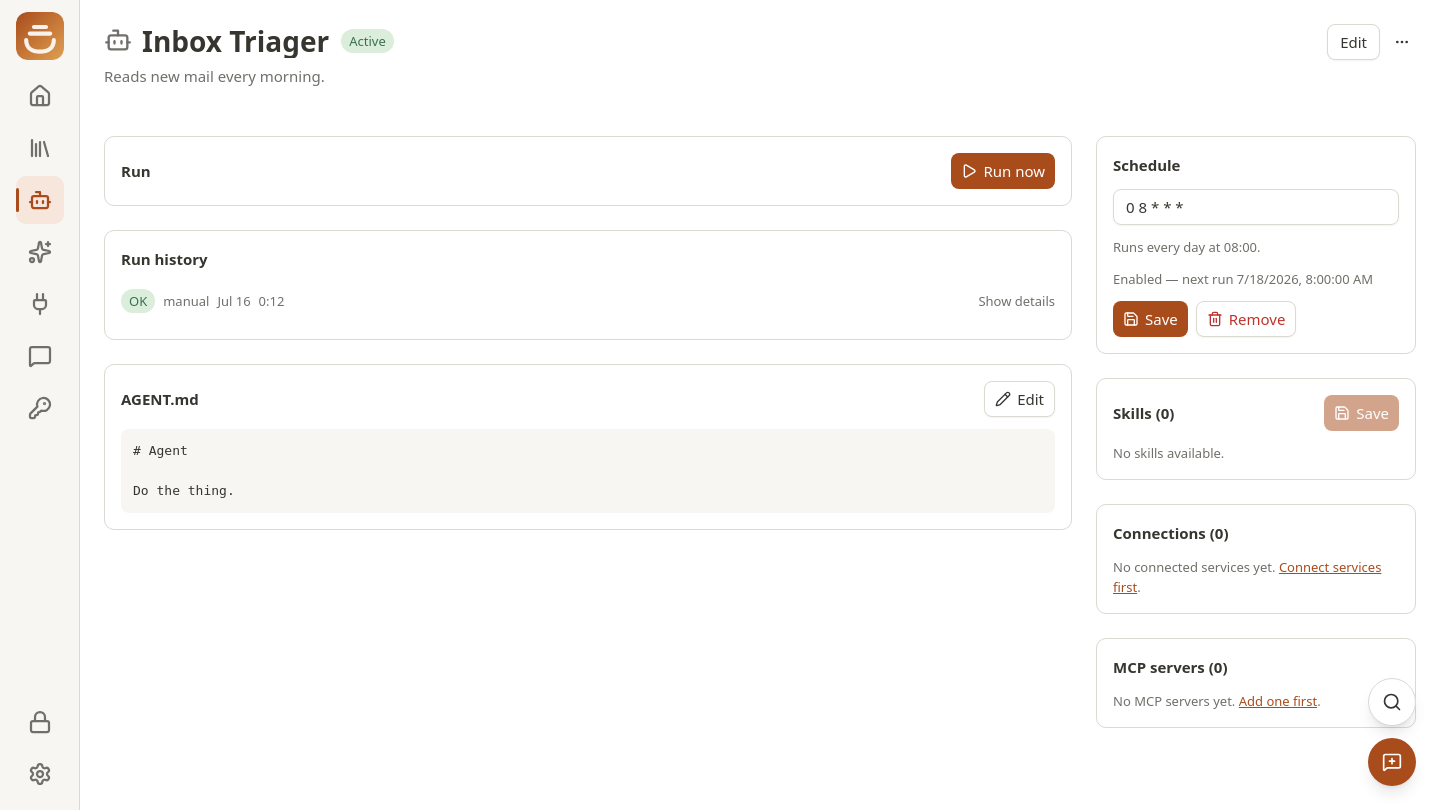
schedule save shows invalid_cron message inline on 400
Replace the text in the field named "cron expression" with "not a cron": (1256, 207) 1113,189 -> 1399,225
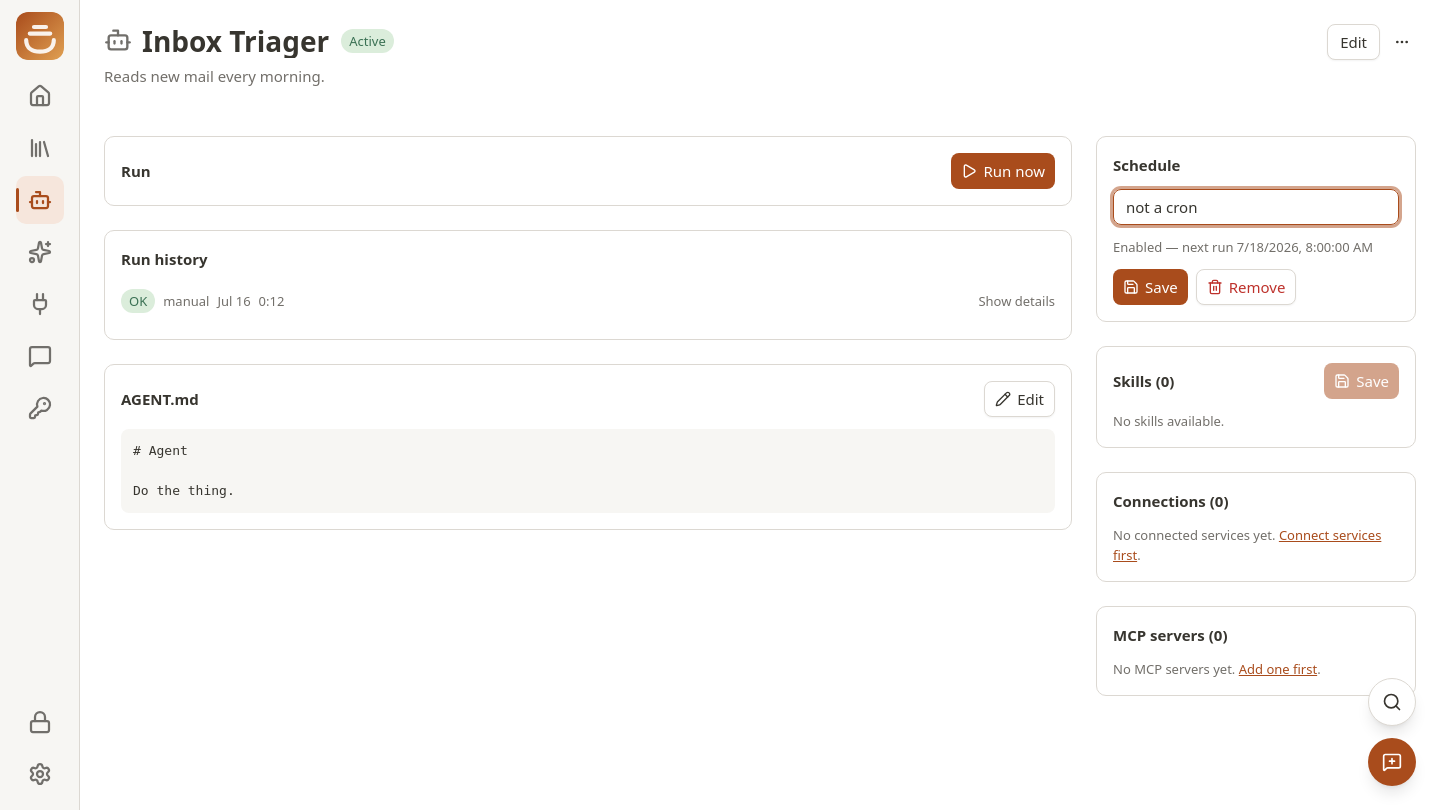
Click the button with aria-label "save schedule": (1150, 287) 1113,269 -> 1188,305
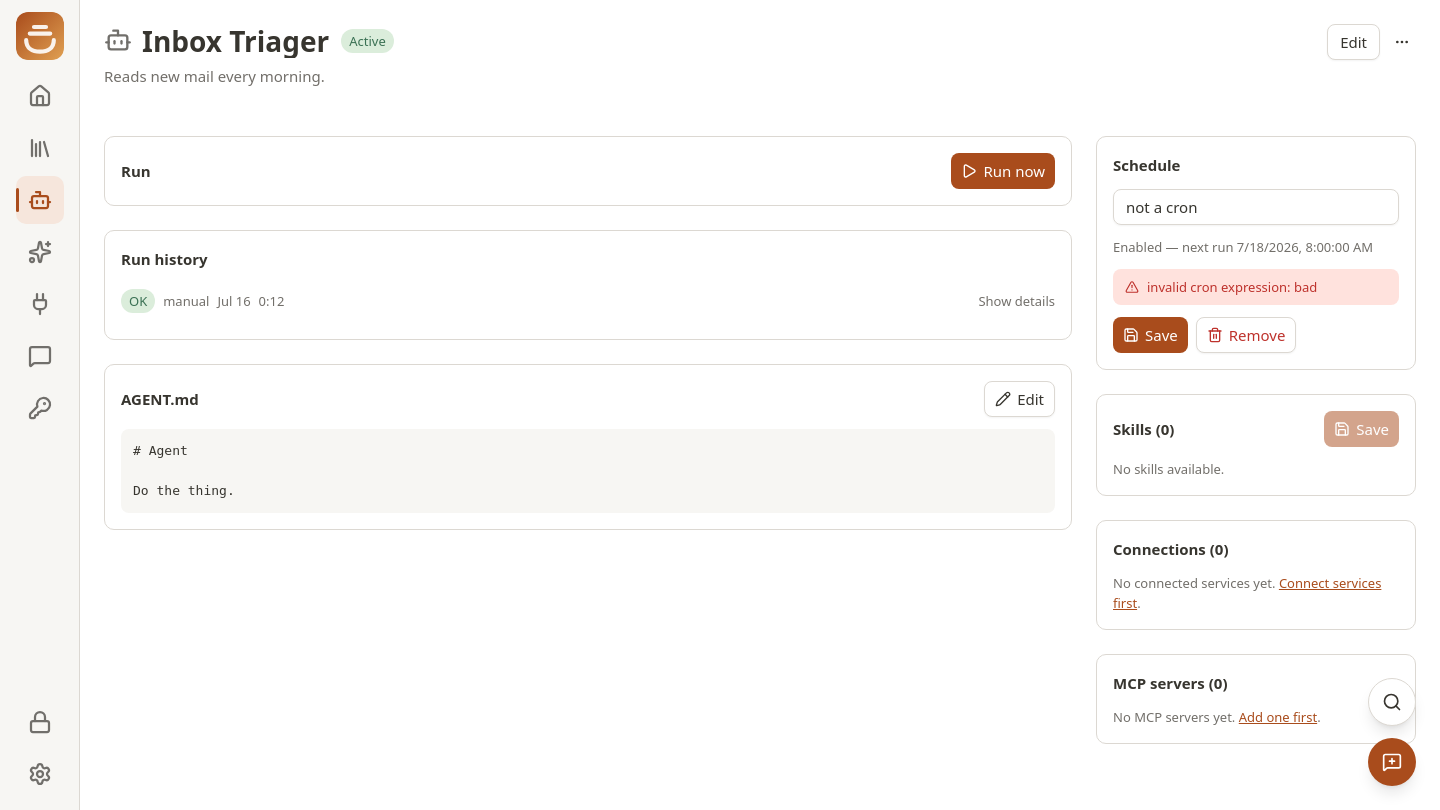
Expected: the text "invalid cron expression: bad" is shown, 1113,269 -> 1399,305
